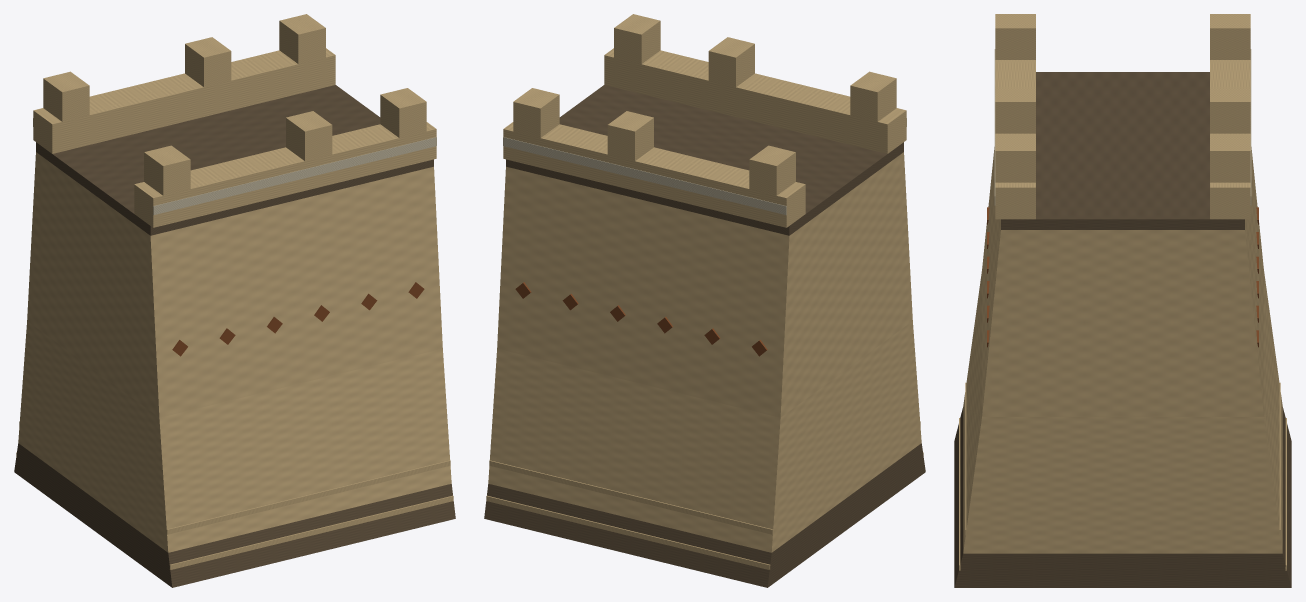
The model's file is Berber_Wall_Age4_damaged_6m.fbx.
The picture shows the model from 3 angles, left to right: view 1: azimuth 30°, elevation 25°; view 2: azimuth 150°, elevation 25°; view 3: azimuth 270°, elevation 25°; orthographic projection. The views are drawn at different scales.
Visible parts, largest first — view 1: damaged_6m_rammed_curtain_upper, damaged_6m_rammed_curtain_lower, damaged_6m_walk_deck, damaged_6m_battered_stone_foot, damaged_6m_parapet.001, damaged_6m_parapet, damaged_6m_owner_painted_band, damaged_6m_merlon.003, damaged_6m_merlon.002, damaged_6m_merlon.001, damaged_6m_merlon.005, damaged_6m_merlon (+4 smaller); view 2: damaged_6m_rammed_curtain_upper, damaged_6m_rammed_curtain_lower, damaged_6m_walk_deck, damaged_6m_battered_stone_foot, damaged_6m_parapet, damaged_6m_parapet.001, damaged_6m_owner_painted_band.001, damaged_6m_merlon, damaged_6m_merlon.002, damaged_6m_merlon.004, damaged_6m_merlon.005, damaged_6m_merlon.001 (+3 smaller); view 3: damaged_6m_rammed_curtain_upper, damaged_6m_rammed_curtain_lower, damaged_6m_walk_deck, damaged_6m_battered_stone_foot, damaged_6m_parapet, damaged_6m_parapet.001, damaged_6m_merlon.004, damaged_6m_merlon.005, damaged_6m_merlon.001, damaged_6m_merlon.002, damaged_6m_merlon, damaged_6m_merlon.003.
Part boxes in pixels (x1=…): damaged_6m_rammed_curtain_upper: x1=27, y1=152, x2=442, y2=417; damaged_6m_rammed_curtain_lower: x1=18, y1=321, x2=451, y2=552; damaged_6m_walk_deck: x1=36, y1=85, x2=433, y2=235; damaged_6m_battered_stone_foot: x1=14, y1=443, x2=455, y2=587; damaged_6m_parapet.001: x1=33, y1=48, x2=335, y2=153; damaged_6m_parapet: x1=134, y1=122, x2=436, y2=227; damaged_6m_owner_painted_band: x1=153, y1=137, x2=436, y2=215; damaged_6m_merlon.003: x1=43, y1=71, x2=89, y2=121; damaged_6m_merlon.002: x1=380, y1=88, x2=426, y2=137; damaged_6m_merlon.001: x1=286, y1=111, x2=332, y2=160; damaged_6m_merlon.005: x1=279, y1=14, x2=325, y2=64; damaged_6m_merlon: x1=144, y1=145, x2=190, y2=195; damaged_6m_rammed_curtain_upper: x1=497, y1=152, x2=912, y2=417; damaged_6m_rammed_curtain_lower: x1=488, y1=321, x2=921, y2=552; damaged_6m_walk_deck: x1=506, y1=85, x2=903, y2=235; damaged_6m_battered_stone_foot: x1=484, y1=443, x2=925, y2=587; damaged_6m_parapet: x1=604, y1=48, x2=906, y2=153; damaged_6m_parapet.001: x1=503, y1=122, x2=805, y2=227; damaged_6m_owner_painted_band.001: x1=503, y1=137, x2=786, y2=215; damaged_6m_merlon: x1=850, y1=71, x2=896, y2=121; damaged_6m_merlon.002: x1=614, y1=14, x2=660, y2=64; damaged_6m_merlon.004: x1=607, y1=111, x2=653, y2=160; damaged_6m_merlon.005: x1=513, y1=88, x2=559, y2=137; damaged_6m_merlon.001: x1=708, y1=37, x2=754, y2=87; damaged_6m_rammed_curtain_upper: x1=982, y1=147, x2=1263, y2=416; damaged_6m_rammed_curtain_lower: x1=963, y1=271, x2=1282, y2=553; damaged_6m_walk_deck: x1=1001, y1=72, x2=1244, y2=229; damaged_6m_battered_stone_foot: x1=954, y1=407, x2=1291, y2=587; damaged_6m_parapet: x1=995, y1=60, x2=1035, y2=219; damaged_6m_parapet.001: x1=1210, y1=60, x2=1250, y2=219; damaged_6m_merlon.004: x1=1210, y1=87, x2=1250, y2=133; damaged_6m_merlon.005: x1=1210, y1=136, x2=1250, y2=182; damaged_6m_merlon.001: x1=995, y1=87, x2=1035, y2=133; damaged_6m_merlon.002: x1=995, y1=136, x2=1035, y2=182; damaged_6m_merlon: x1=995, y1=14, x2=1035, y2=59; damaged_6m_merlon.003: x1=1210, y1=14, x2=1250, y2=59.
Size of the model in its own units: 600 by 820 by 580.
Materials: 4 (4 with a texture image).
